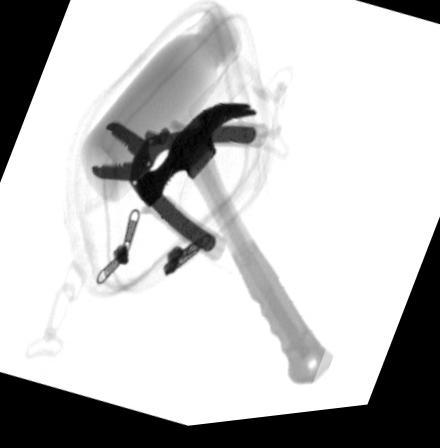Hammer: (134, 107, 335, 392)
Pliers: (92, 122, 268, 267)
